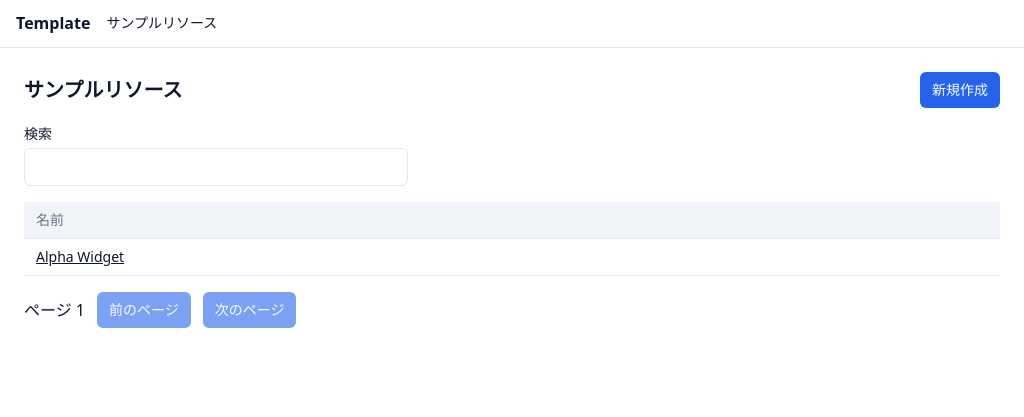
Test: sample resource create and edit › creates an item and shows it on the list after refetch
Click the link "新規作成": (960, 90) top-left (920, 72), bottom-right (1000, 108)
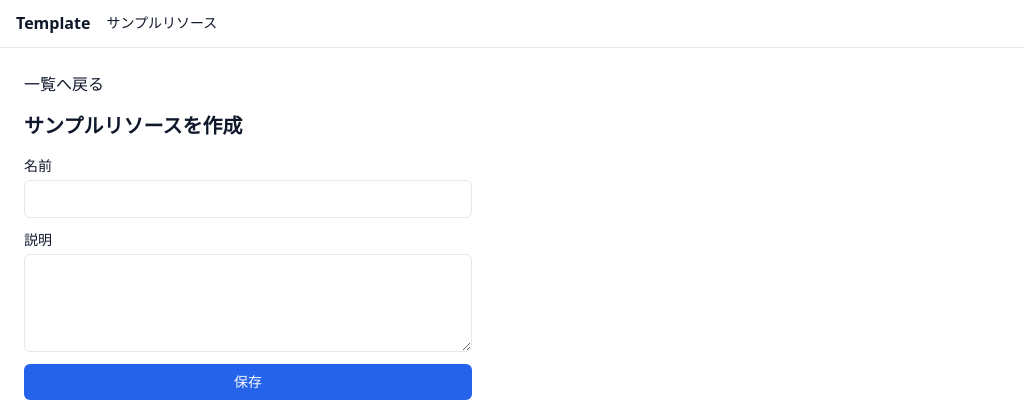
In the field labelled "名前": (248, 199) top-left (24, 180), bottom-right (472, 218), type "Created Widget"
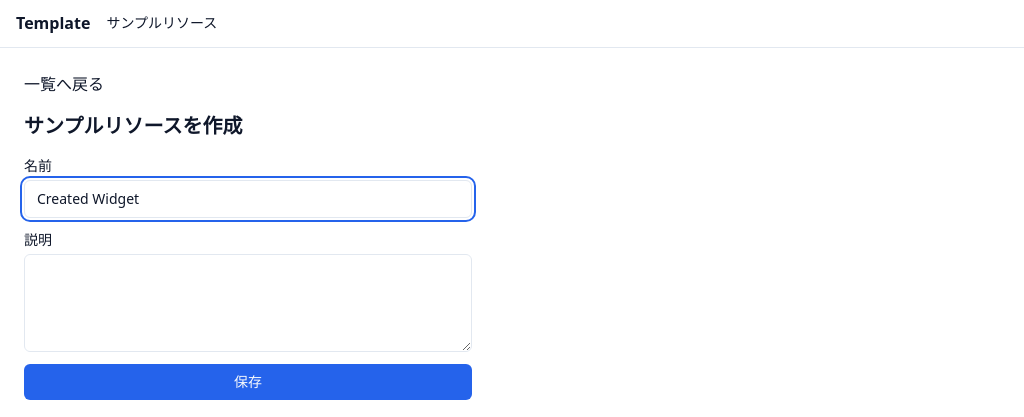
Click the button "保存": (248, 382) top-left (24, 364), bottom-right (472, 400)
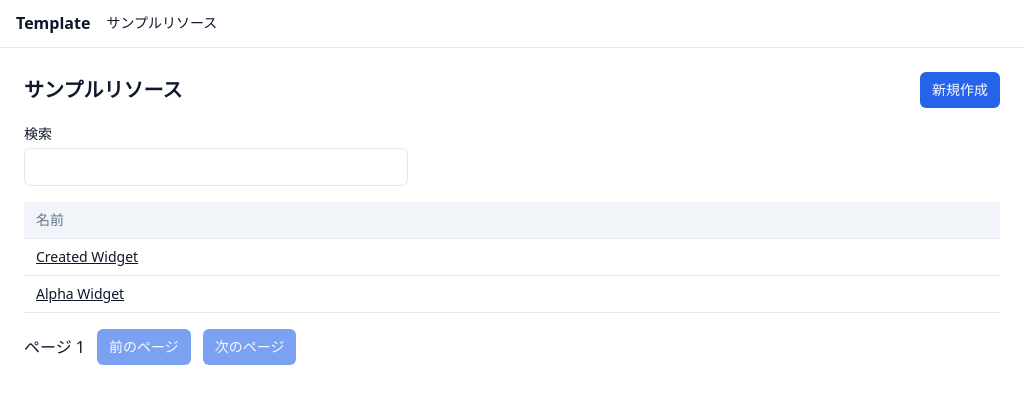
Expected: the heading "サンプルリソース" is shown, top-left (24, 76), bottom-right (182, 104)
Expected: the link "Created Widget" is shown, top-left (36, 247), bottom-right (138, 266)
